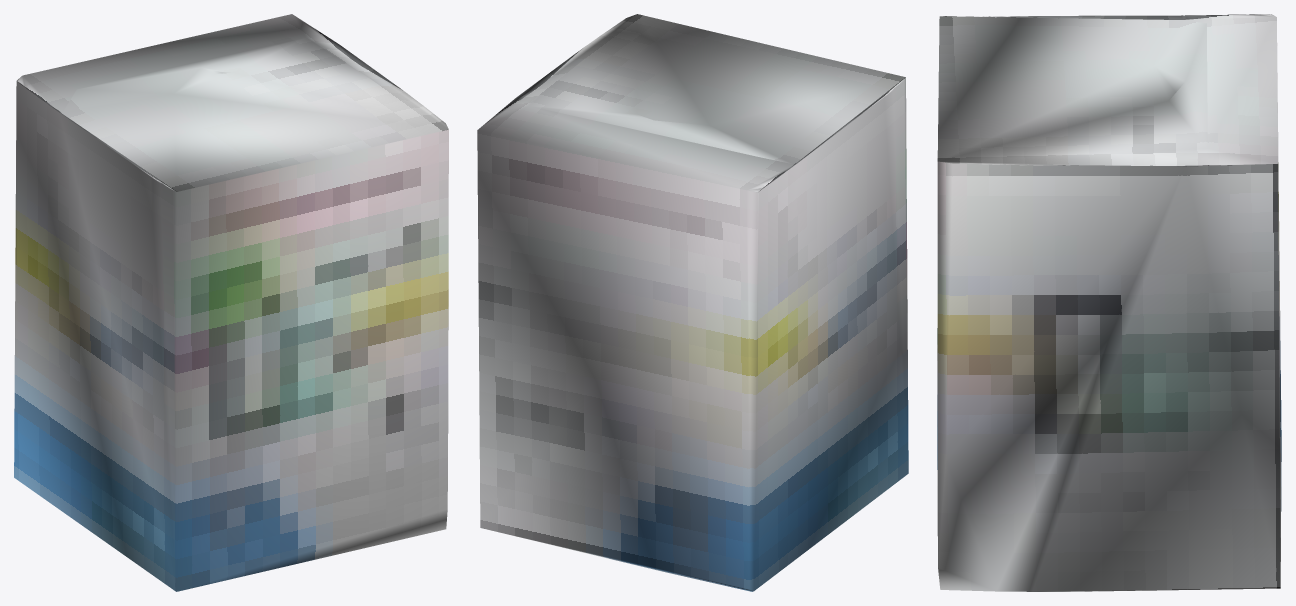
The model's file is Office_Depot_HP_74XL75_Remanufactured_Ink_Cartridges_BlackTriColor_2_count-low.glb.
The picture shows the model from 3 angles, left to right: view 1: azimuth 30°, elevation 25°; view 2: azimuth 150°, elevation 25°; view 3: azimuth 270°, elevation 25°; orthographic projection. The views are drawn at different scales.
Visible parts, largest first — view 1: Office_Depot_HP_74XL75_Remanufactured_Ink_Cartridges_BlackTr; view 2: Office_Depot_HP_74XL75_Remanufactured_Ink_Cartridges_BlackTr; view 3: Office_Depot_HP_74XL75_Remanufactured_Ink_Cartridges_BlackTr.
Boxes of the visible parts, <box> form: Office_Depot_HP_74XL75_Remanufactured_Ink_Cartridges_BlackTr: <box>14,14,448,591</box>; Office_Depot_HP_74XL75_Remanufactured_Ink_Cartridges_BlackTr: <box>477,14,908,591</box>; Office_Depot_HP_74XL75_Remanufactured_Ink_Cartridges_BlackTr: <box>937,14,1281,591</box>.
Bounding box in the file's own units: 0.0841 × 0.1161 × 0.0824.
Materials: 1 (1 with a texture image).
